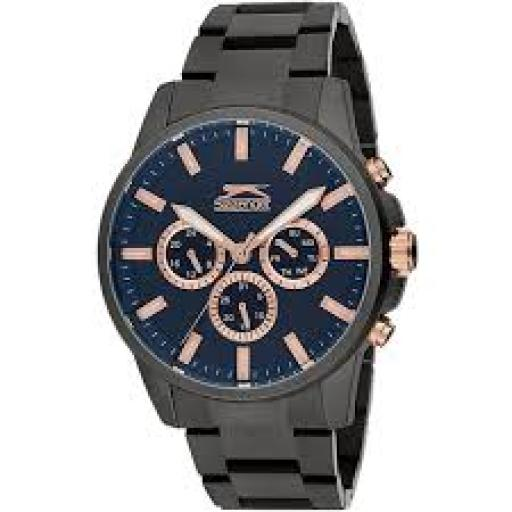KolSaati: (74, 5, 446, 512)
